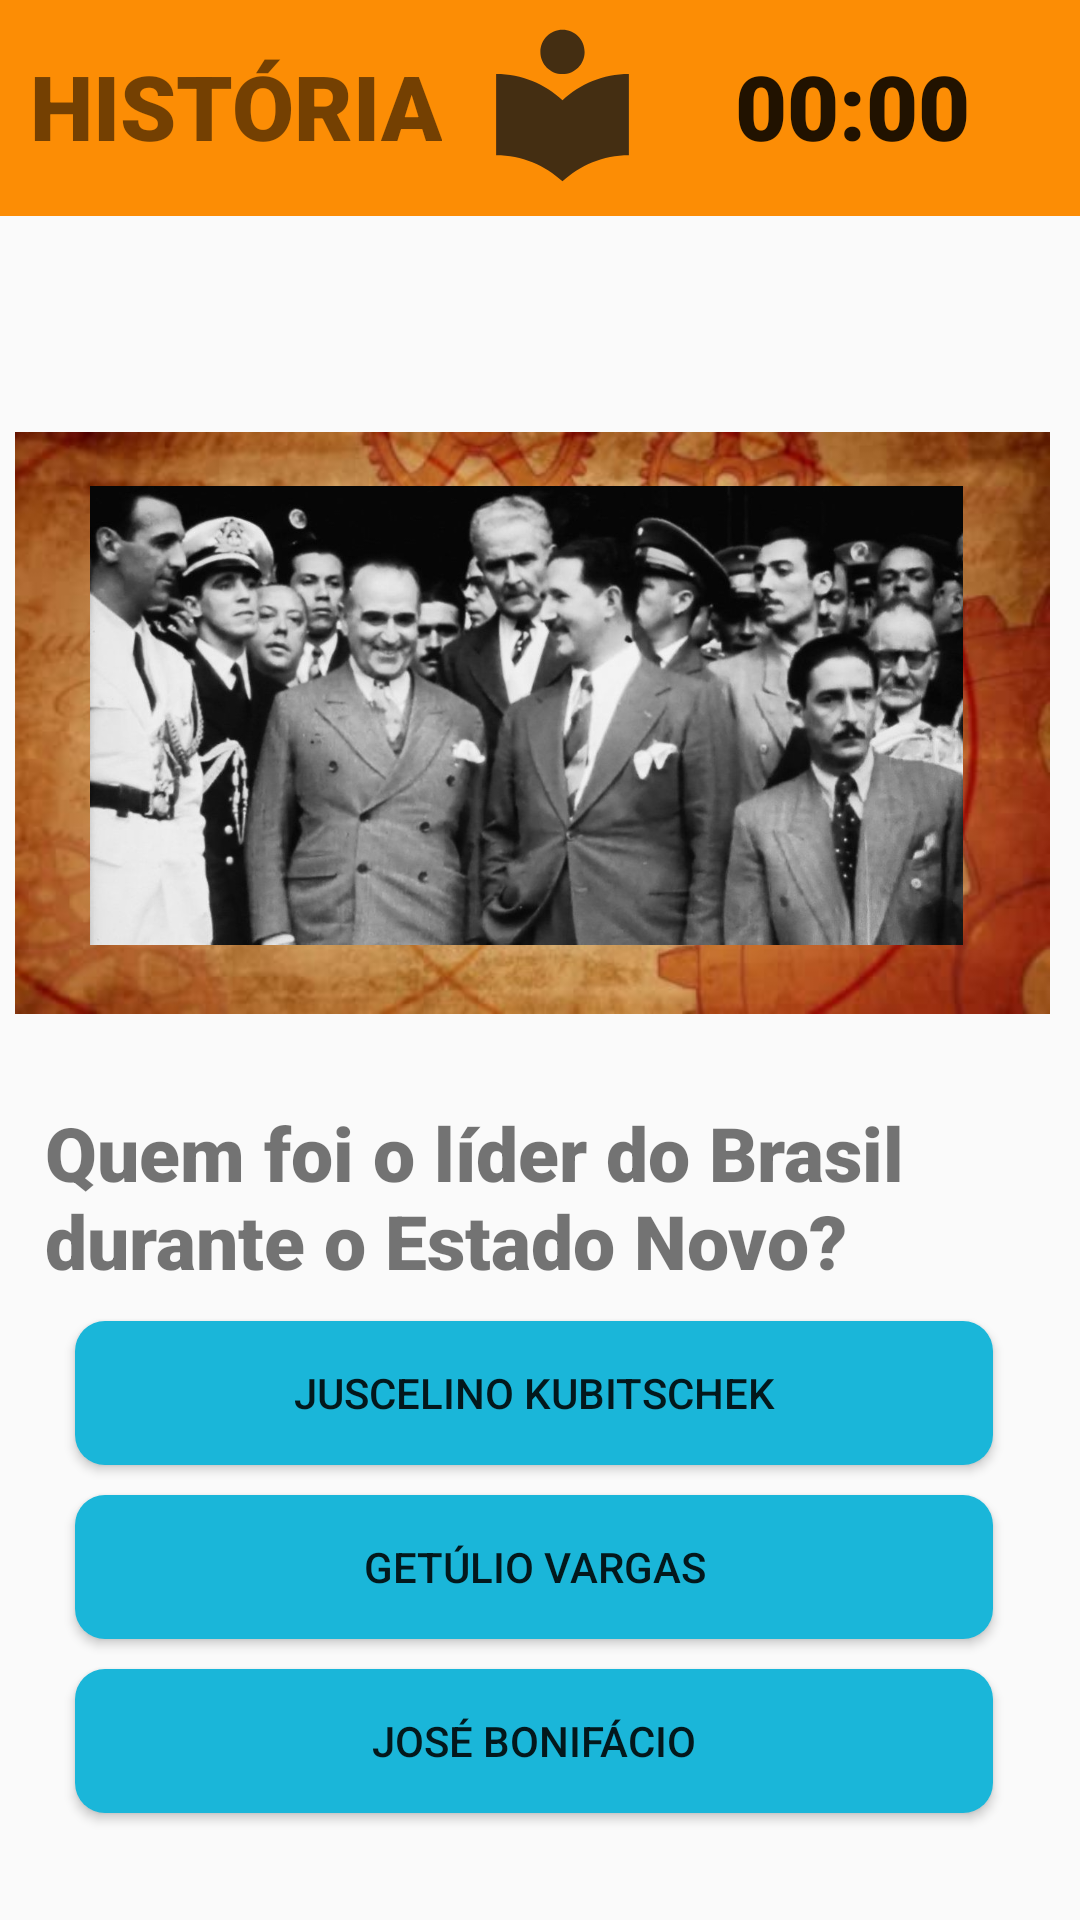

Screen size 1080px×1920px. Icon name, then its box in pixels as bbox=[x1, y1, x2, y2]:
iconhist: bbox=[496, 29, 629, 181]
